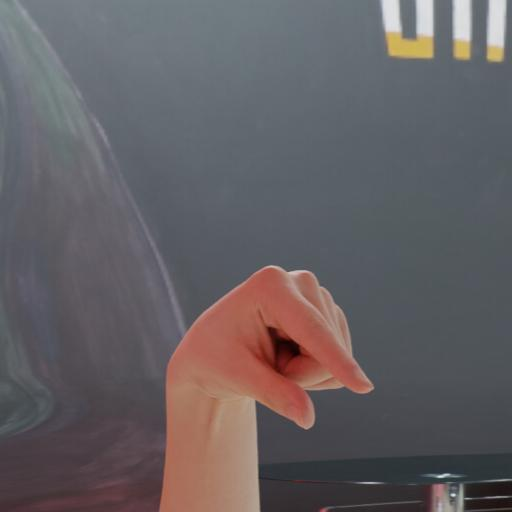Q: (166, 262, 380, 434)
